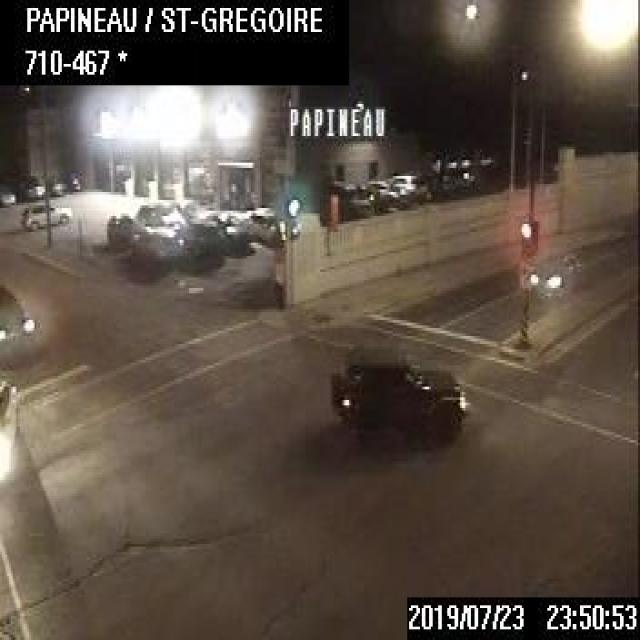vehicle: (327, 347, 464, 442), (238, 200, 300, 245), (129, 220, 183, 267), (0, 280, 35, 352), (528, 251, 582, 296), (0, 376, 22, 477), (317, 179, 370, 218), (21, 198, 72, 230), (387, 172, 432, 208), (106, 211, 139, 247), (363, 177, 398, 209), (19, 171, 43, 196), (0, 180, 20, 207)
